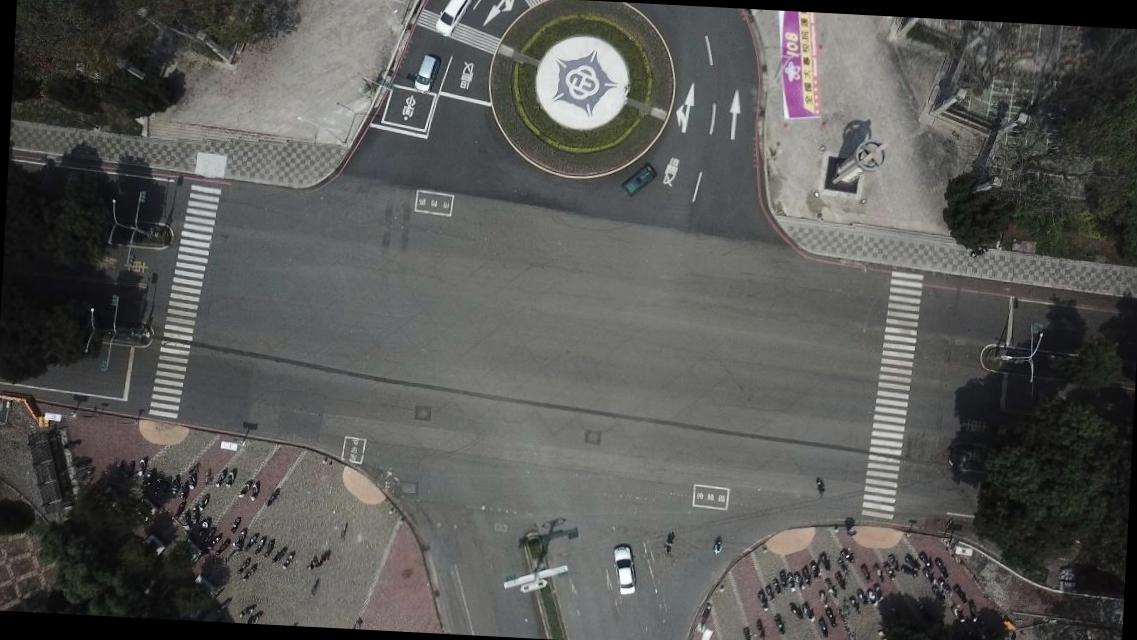vehicle: (609, 544, 638, 596), (620, 160, 656, 200), (434, 0, 472, 37), (412, 54, 440, 94)
